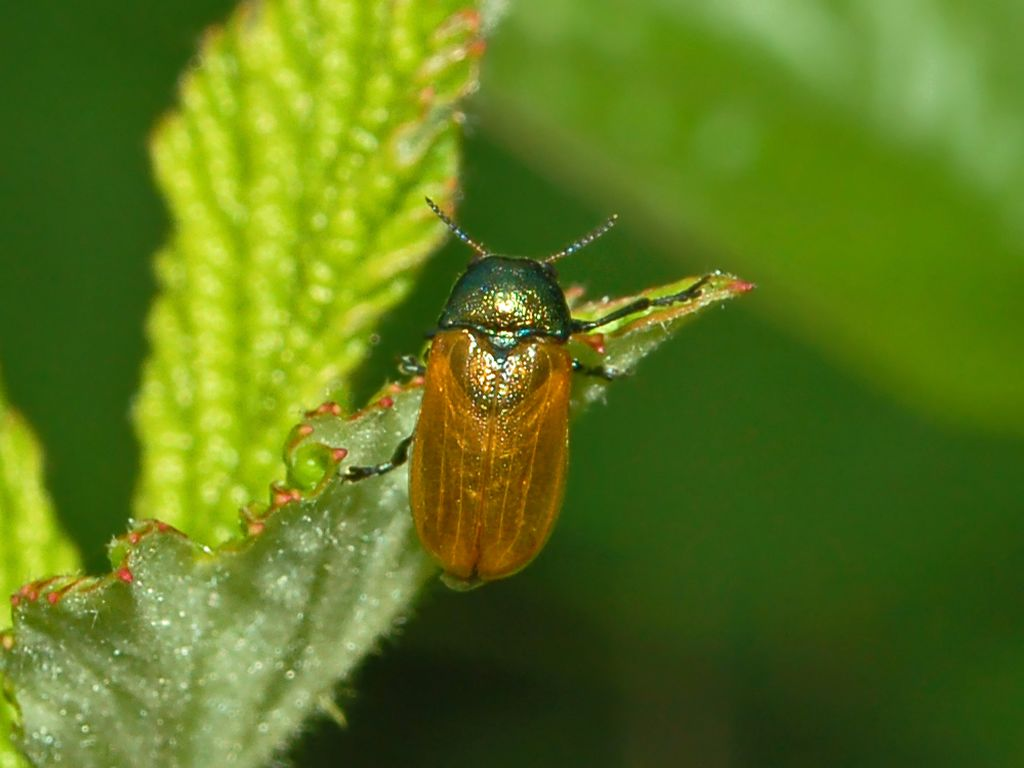Labidostomis_longimana: (337, 187, 644, 599)
